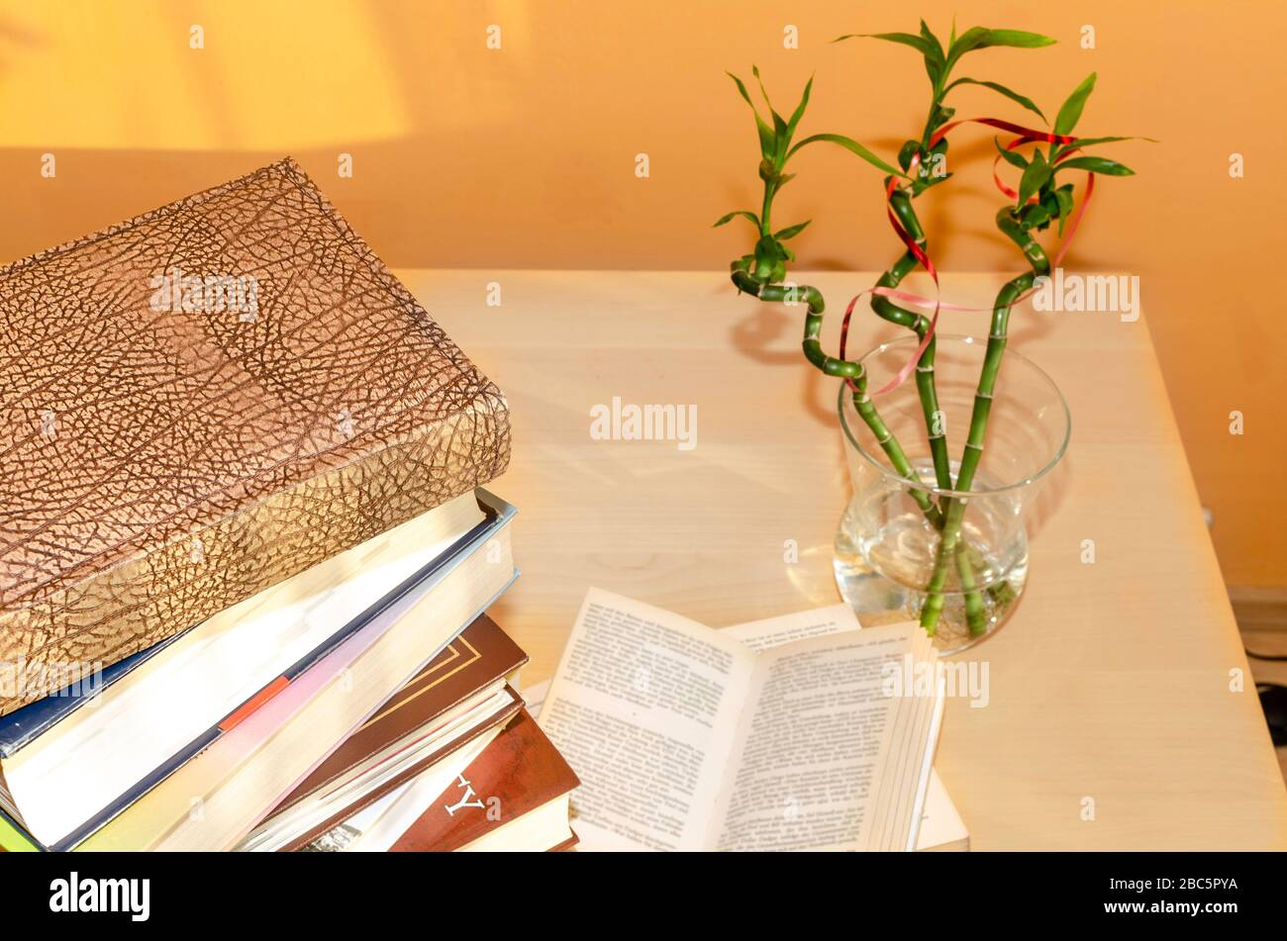not a gesture sign: (0, 159, 510, 714)
